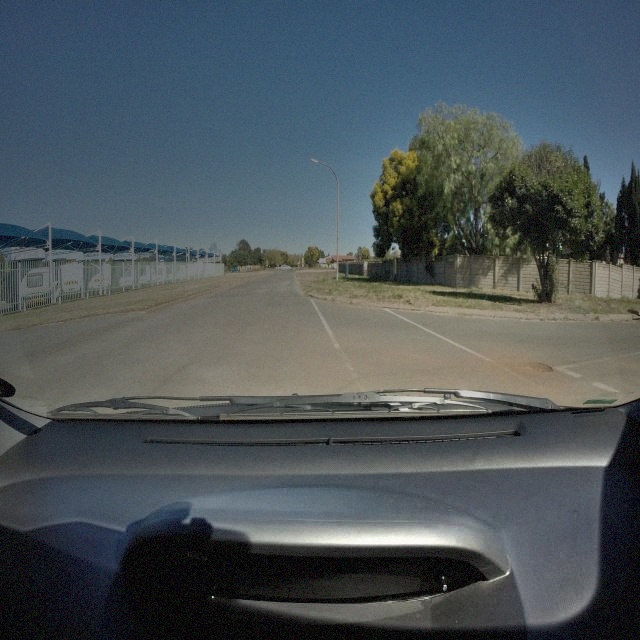pothole: (529, 358, 555, 377)
